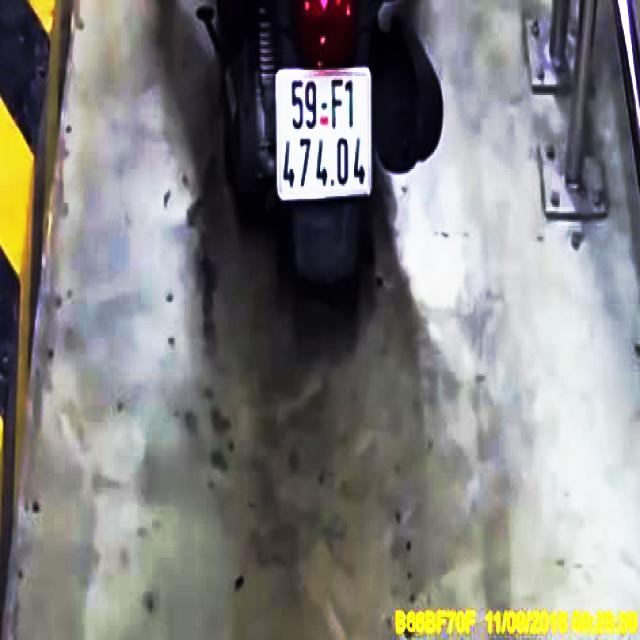license_plate: (279, 71, 374, 191)
